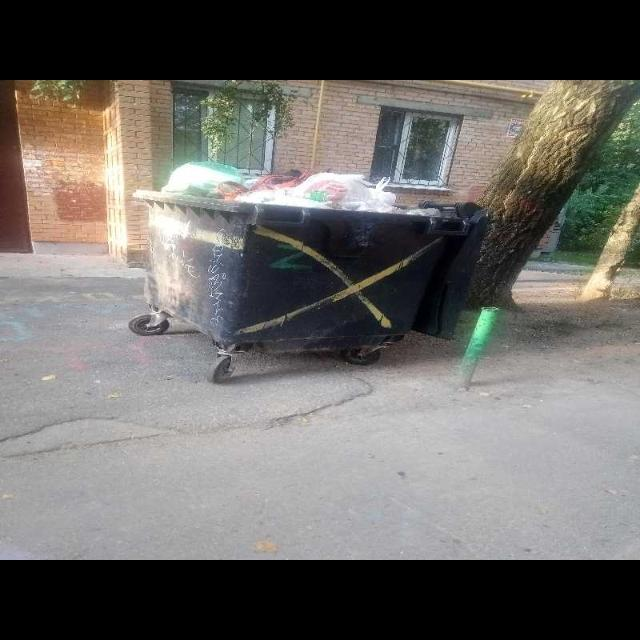Trash_Can_Full: (131, 159, 451, 347)
